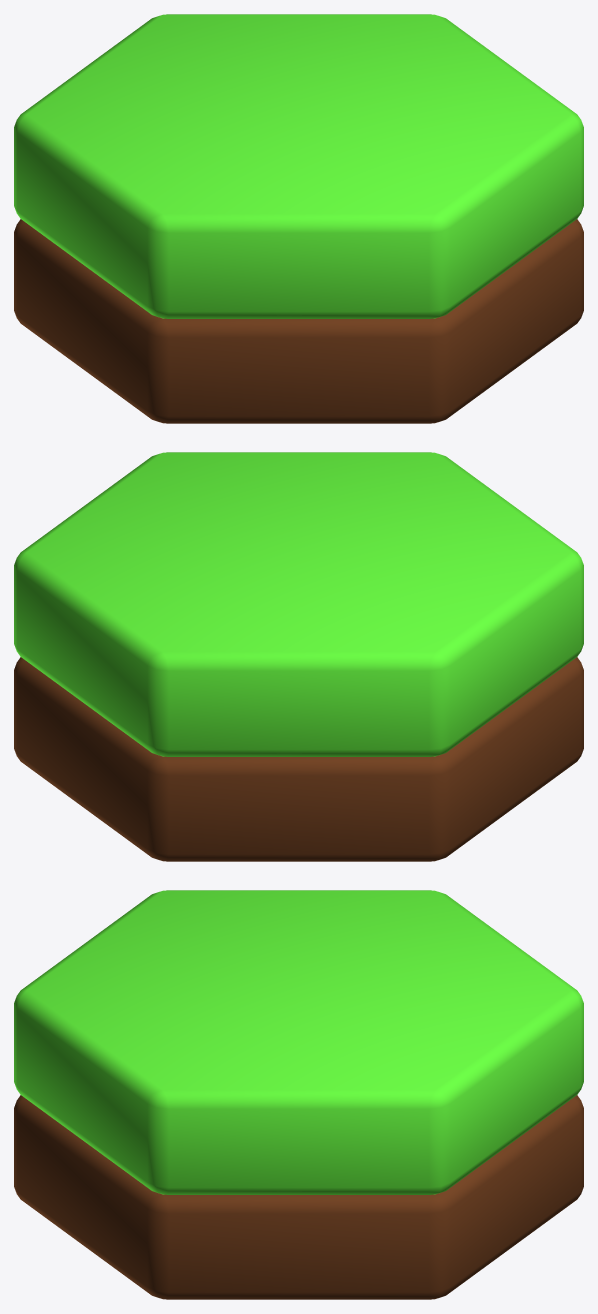
Rendered from ground_grass.glb.
3 views of the same model, one above another, from view 1: azimuth 30°, elevation 25°; view 2: azimuth 150°, elevation 25°; view 3: azimuth 270°, elevation 25° (orthographic).
Parts seen in each view (by area): view 1: ground_grass; view 2: ground_grass; view 3: ground_grass.
Boxes of the visible parts, <box> form: ground_grass: <box>14,14,583,423</box>; ground_grass: <box>14,452,583,861</box>; ground_grass: <box>14,890,583,1299</box>.
Size of the model in its own units: 6.93 by 3.2 by 7.9.
